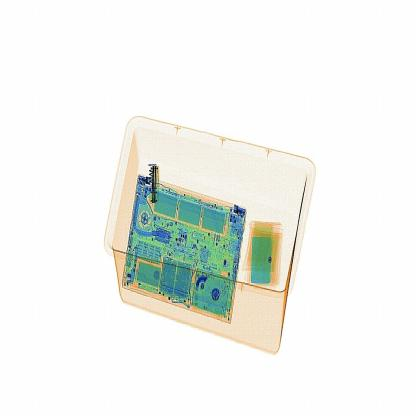scissors: (148, 159, 162, 209)
